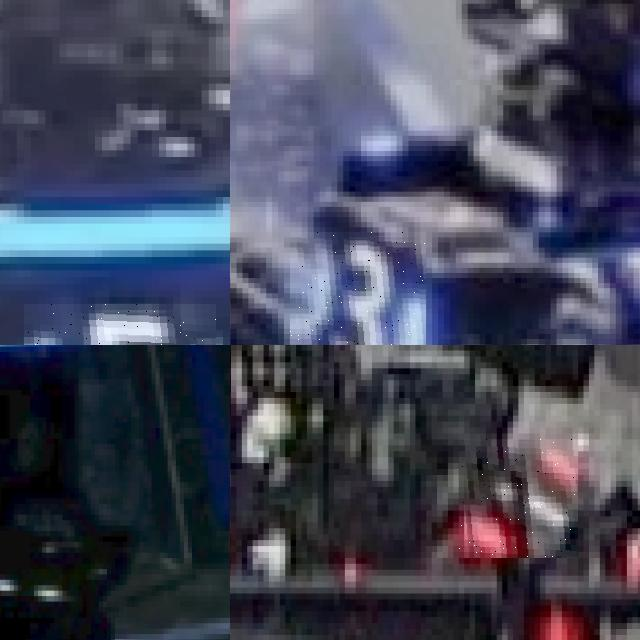B3: (289, 232, 426, 345)
B5: (24, 303, 216, 345)
R1: (459, 439, 578, 558), (230, 522, 361, 593)
